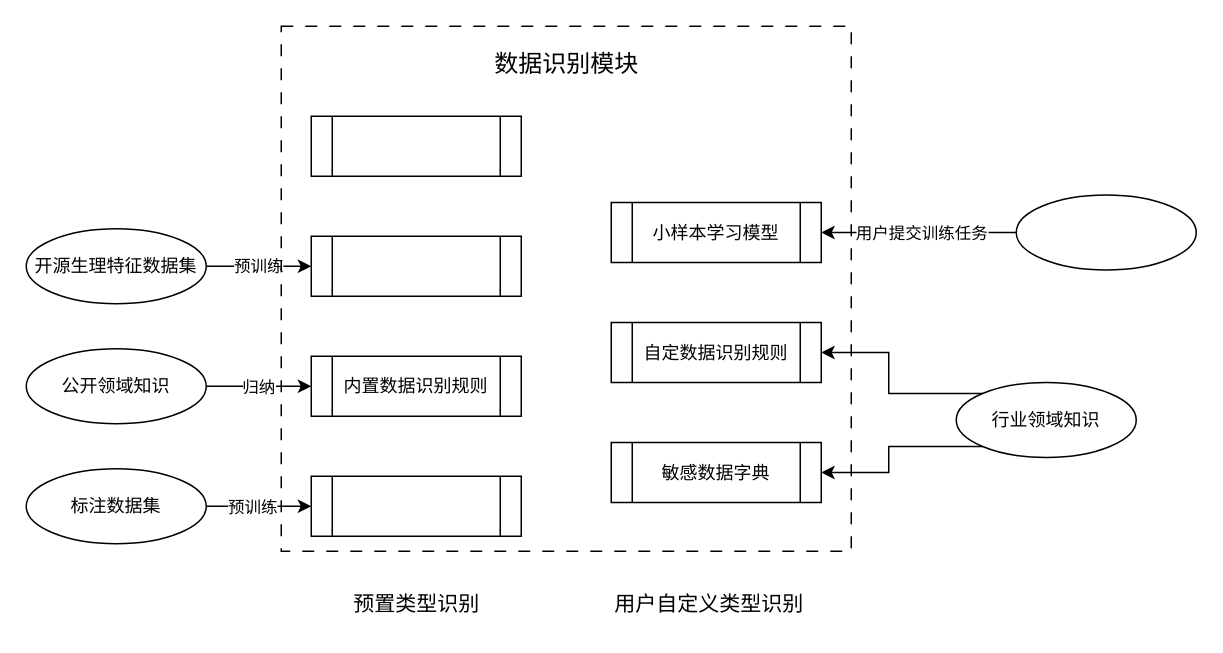
Some shapes in this 1223 by 653 pixel diagram are drawn without their labels. The box of each missing label's shape, as (x1, y1, x2, y2) in pixels:
文本数据样本: (1015, 194, 1196, 270)
无监督关联分析模型: (310, 115, 521, 176)
预训练文本识别模型: (310, 475, 521, 536)
预训练生理特诊识别模型: (310, 235, 521, 296)
